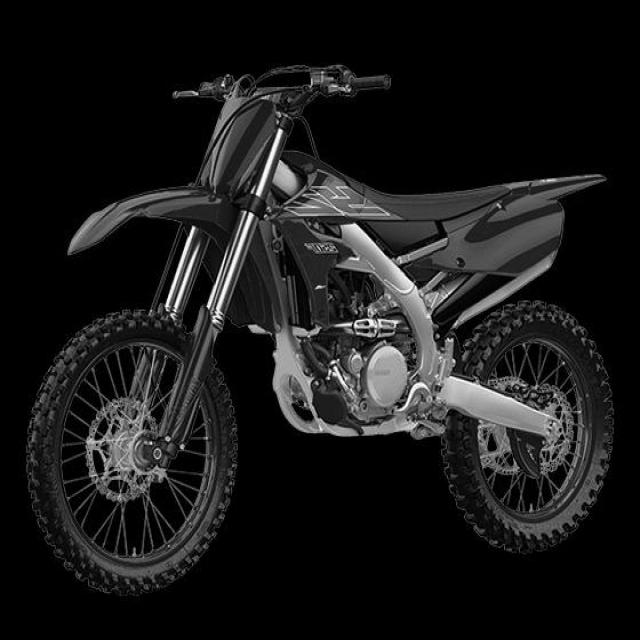Motorcycle: (27, 65, 615, 596)
